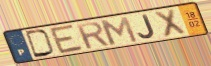D: (24, 29, 57, 59)
E: (48, 23, 86, 55)
J: (137, 13, 157, 40)
M: (97, 15, 140, 47)
R: (74, 20, 112, 50)
X: (152, 7, 189, 39)
